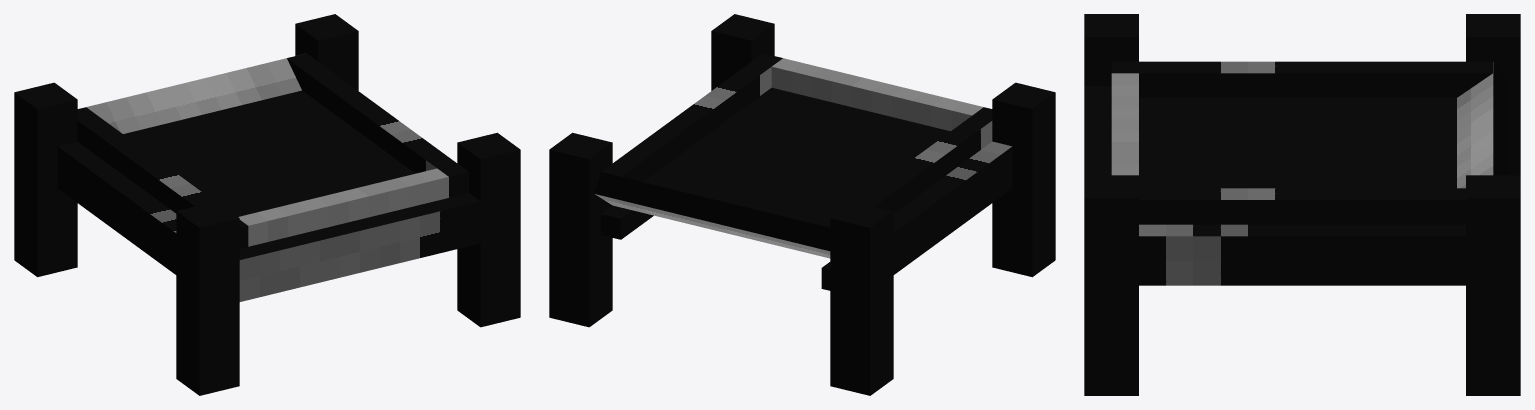
The model's file is kiln_shelf.obj.
The picture shows the model from 3 angles, left to right: view 1: azimuth 30°, elevation 25°; view 2: azimuth 150°, elevation 25°; view 3: azimuth 270°, elevation 25°; orthographic projection. The views are drawn at different scales.
Parts seen in each view (by area): view 1: shape1________, shape1, shape1_____________, shape1__________, shape1____________, shape1_______, shape1_________, shape1_, shape1___, shape1__, shape1___________; view 2: shape1________, shape1__________, shape1___________, shape1_____________, shape1_________, shape1_______, shape1_, shape1___, shape1__, shape1____________, shape1____; view 3: shape1________, shape1______, shape1__, shape1___________, shape1____________, shape1___, shape1_________, shape1__________, shape1_____________, shape1_, shape1.
Part boxes in pixels (bbox=[...]): shape1________: bbox=[123, 90, 415, 216]; shape1: bbox=[239, 193, 480, 301]; shape1_____________: bbox=[176, 201, 239, 395]; shape1__________: bbox=[14, 82, 77, 277]; shape1____________: bbox=[457, 132, 520, 327]; shape1_______: bbox=[57, 141, 176, 274]; shape1_________: bbox=[86, 58, 301, 133]; shape1_: bbox=[238, 168, 448, 246]; shape1___: bbox=[287, 53, 468, 197]; shape1__: bbox=[77, 107, 248, 248]; shape1___________: bbox=[295, 14, 358, 90]; shape1________: bbox=[643, 87, 950, 225]; shape1__________: bbox=[830, 201, 893, 395]; shape1___________: bbox=[549, 132, 612, 327]; shape1_____________: bbox=[992, 82, 1055, 277]; shape1_________: bbox=[594, 172, 830, 258]; shape1_______: bbox=[893, 141, 1012, 274]; shape1_: bbox=[771, 58, 983, 131]; shape1___: bbox=[601, 53, 782, 181]; shape1__: bbox=[822, 107, 992, 227]; shape1____________: bbox=[711, 14, 774, 90]; shape1____: bbox=[601, 205, 653, 239]; shape1________: bbox=[1139, 98, 1456, 188]; shape1______: bbox=[1139, 224, 1465, 285]; shape1__: bbox=[1111, 61, 1492, 97]; shape1___________: bbox=[1466, 175, 1520, 395]; shape1____________: bbox=[1084, 175, 1138, 395]; shape1___: bbox=[1139, 188, 1465, 224]; shape1_________: bbox=[1457, 62, 1509, 224]; shape1__________: bbox=[1466, 14, 1520, 175]; shape1_____________: bbox=[1084, 14, 1138, 86]; shape1_: bbox=[1111, 73, 1138, 175]; shape1: bbox=[1084, 86, 1111, 175].
Bounding box in the file's own units: 1 × 0.5 × 1.
